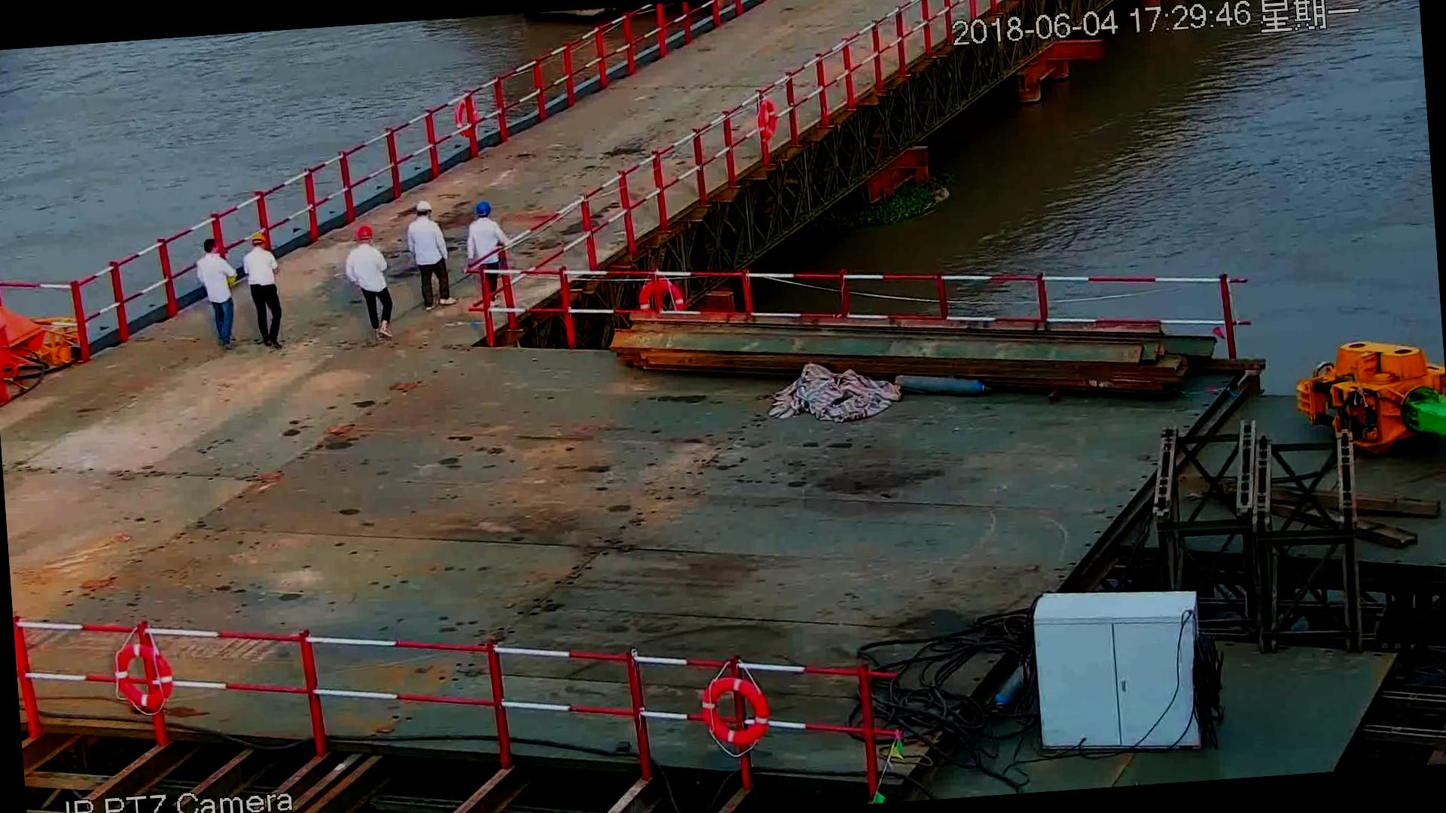helmet: (469, 197, 493, 223), (411, 198, 435, 222), (352, 223, 375, 244)
no_vest: (342, 241, 386, 303), (407, 214, 448, 275), (197, 252, 233, 307), (467, 216, 504, 265), (243, 245, 280, 293)
person: (339, 220, 398, 342), (192, 233, 248, 357), (403, 195, 458, 315), (240, 226, 290, 348), (461, 193, 507, 253)
